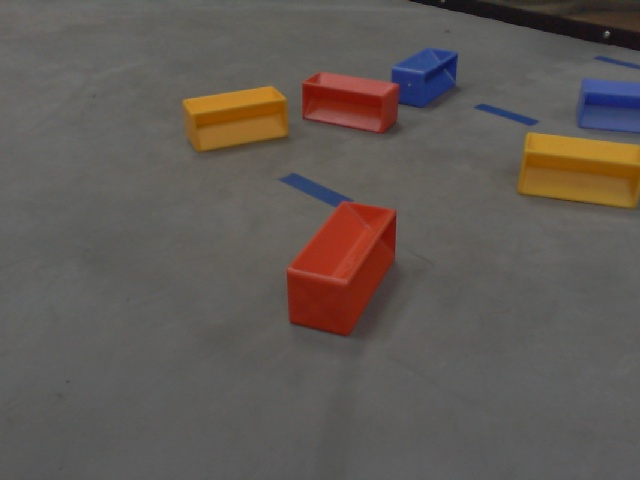BlueSample: (387, 44, 461, 111), (574, 74, 640, 136)
RedSample: (276, 197, 405, 339), (298, 69, 402, 136)
YellowSample: (515, 130, 640, 213), (175, 82, 292, 153)
